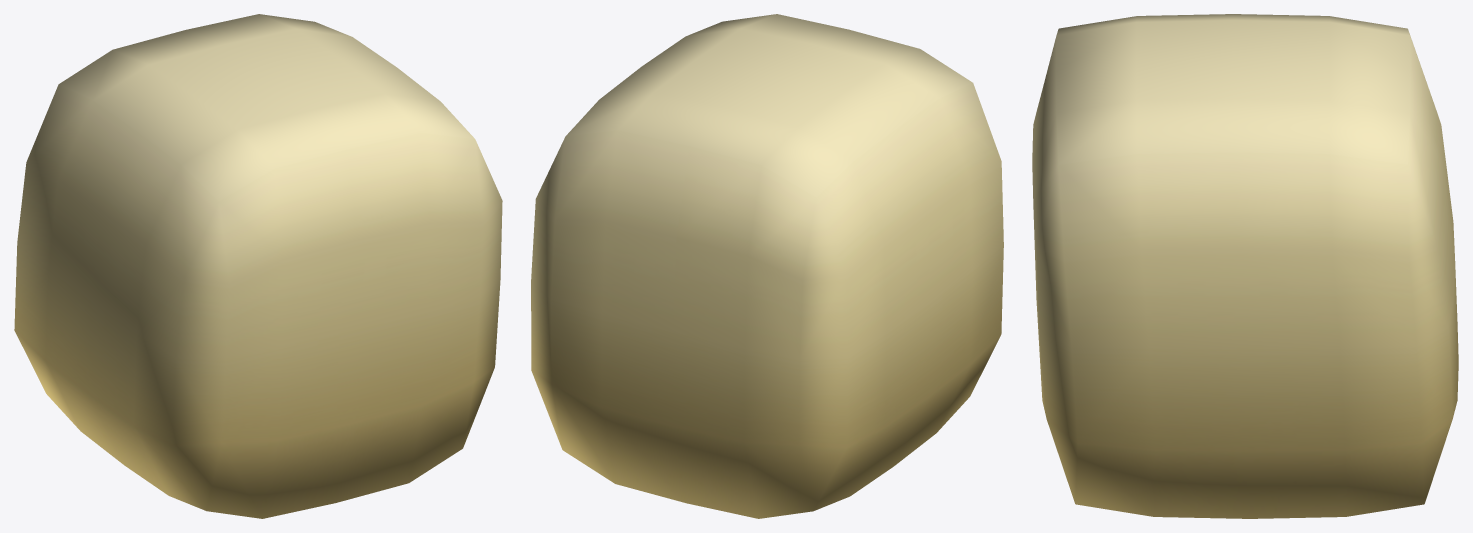
File: Blob_Yellow.fbx
The picture shows the model from 3 angles, left to right: view 1: azimuth 30°, elevation 25°; view 2: azimuth 150°, elevation 25°; view 3: azimuth 270°, elevation 25°; orthographic projection. The views are drawn at different scales.
Parts seen in each view (by area): view 1: Blob_Yellow; view 2: Blob_Yellow; view 3: Blob_Yellow.
Boxes of the visible parts, <box> form: Blob_Yellow: <box>14,14,502,518</box>; Blob_Yellow: <box>531,14,1003,518</box>; Blob_Yellow: <box>1032,14,1458,518</box>.
Size of the model in its own units: 0.9906 by 1.09 by 1.01.
